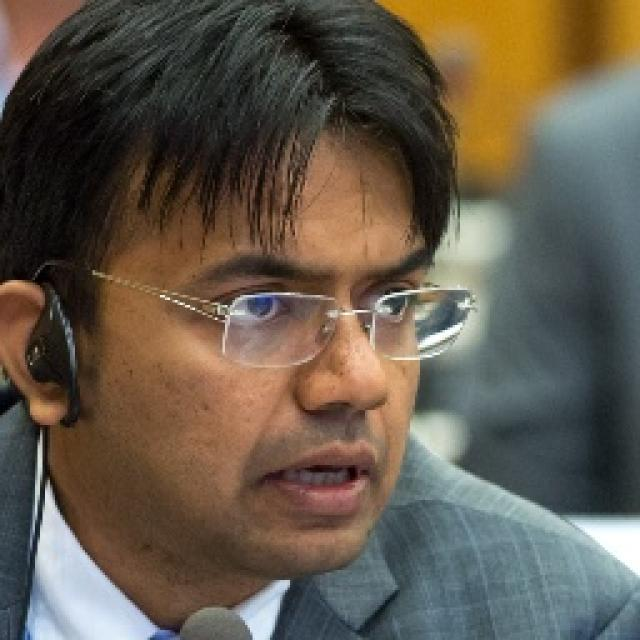earlobe: (27, 377, 69, 428)
eye: (214, 285, 291, 327), (364, 286, 418, 323)
nose: (299, 401, 387, 441)
wholeear: (0, 281, 69, 428)
